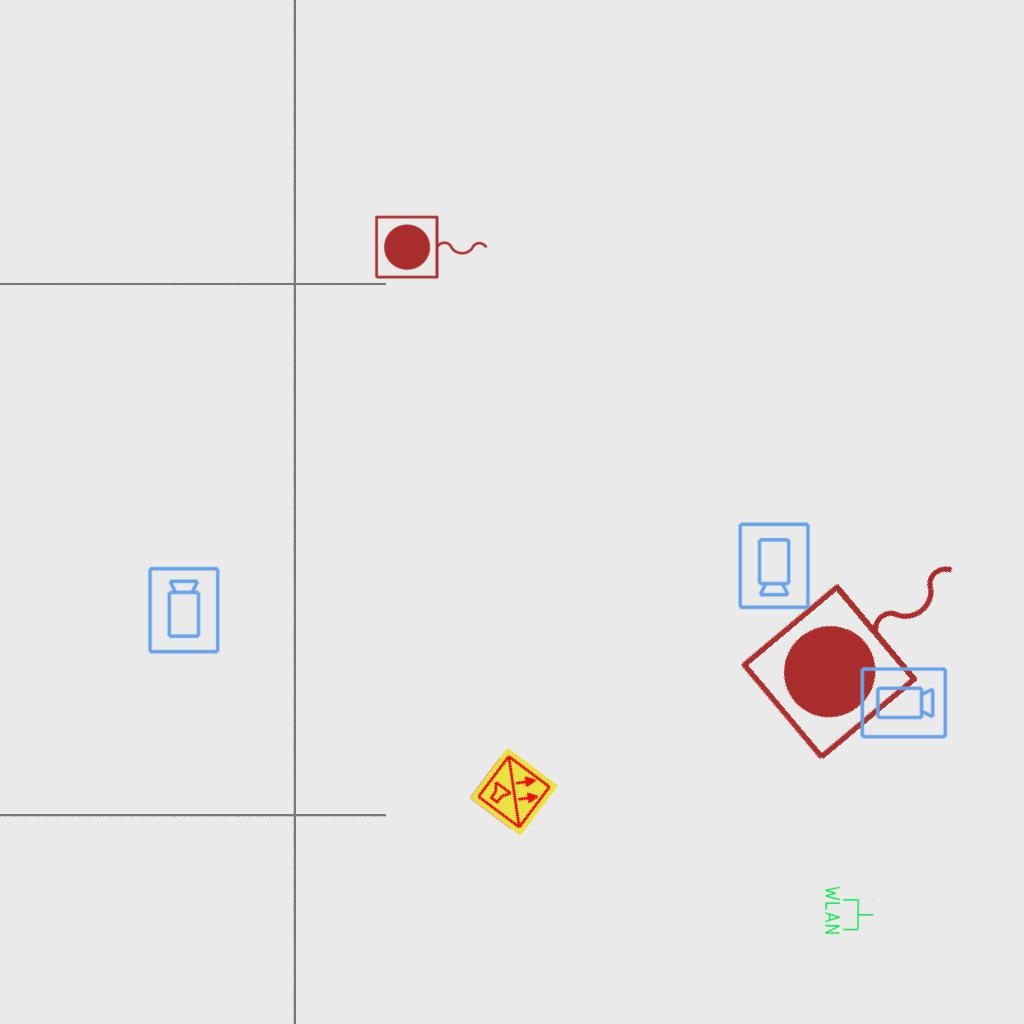KFO_Kamera_mit_Festobjektiv: (146, 565, 223, 656), (858, 665, 949, 742), (735, 520, 812, 611)
OKW_Multisensormelder_(Kombination_optischer_Rauch-Kahlenmonoxid_Waerme-Melder): (467, 745, 561, 839)
WLAN: (823, 884, 875, 936)
Zugtaster: (729, 507, 1009, 775), (371, 212, 493, 284)
